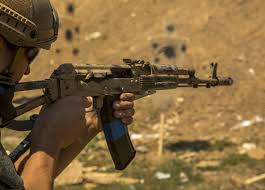gun: (1, 56, 234, 172)
